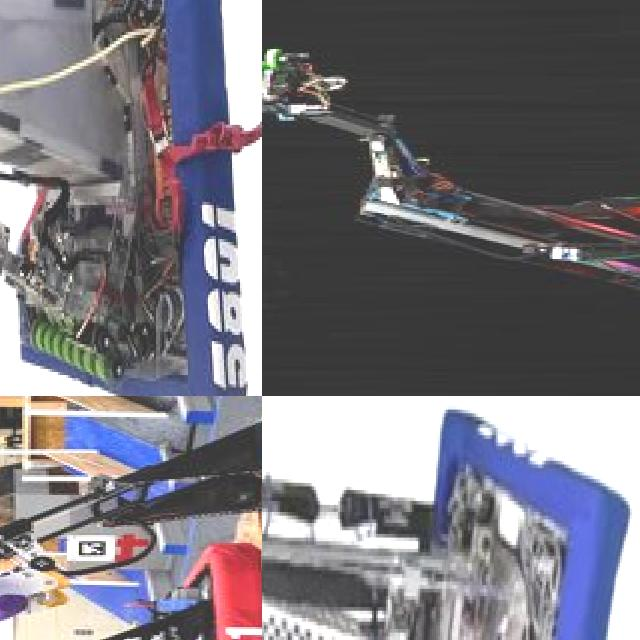FRC-Robots: (262, 40, 640, 342), (0, 0, 230, 396), (262, 401, 618, 640), (15, 396, 262, 542), (0, 539, 262, 640)
